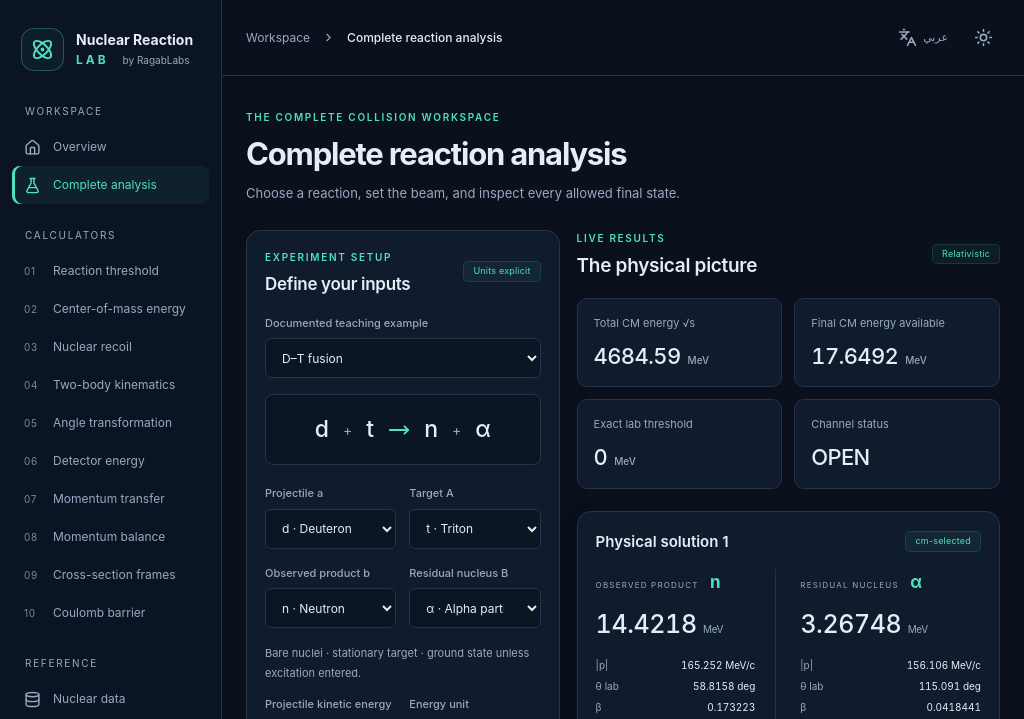
Test case: UI rejects nonconserving reaction selection
Select "p · Proton" in the dropdown labelled "Observed product b" at (331, 608), box [265,588,396,628]
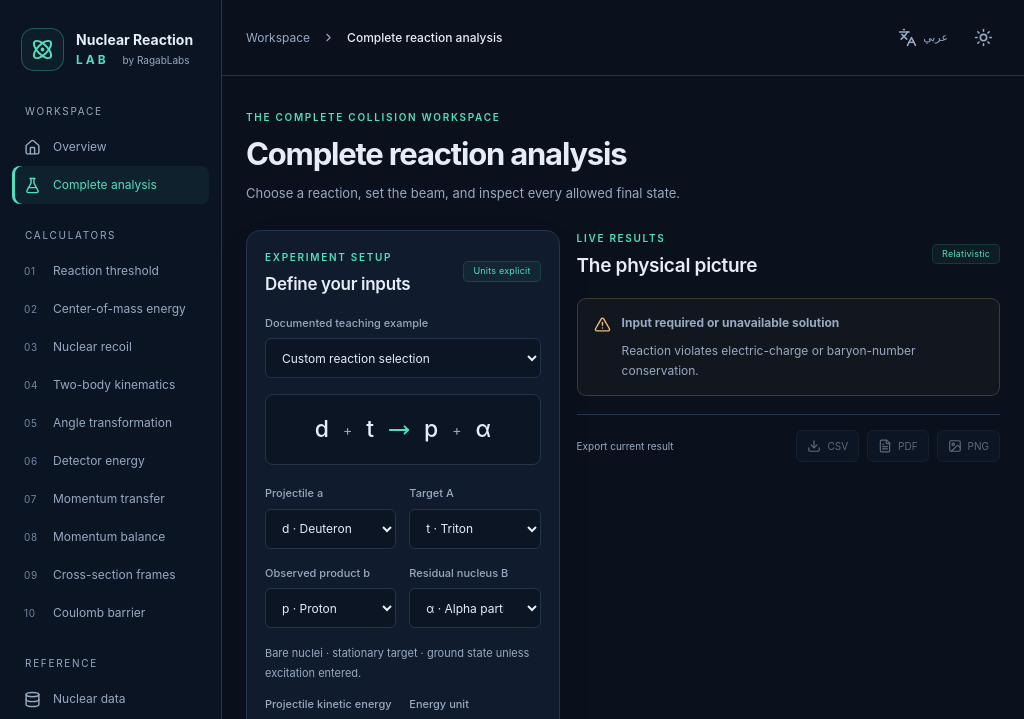
Expected: the message shows "violates electric-charge", [622,343,916,378]
